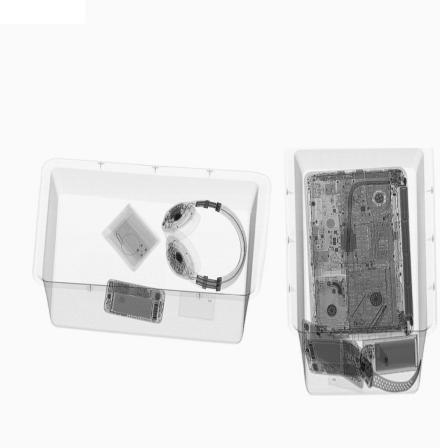Powerbank: (364, 335, 420, 379)
